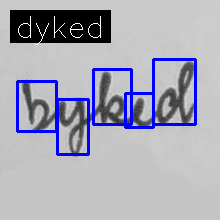b: (20, 76, 52, 136)
d: (153, 58, 199, 127)
e: (129, 94, 149, 131)
k: (95, 68, 127, 129)
y: (55, 94, 87, 159)
